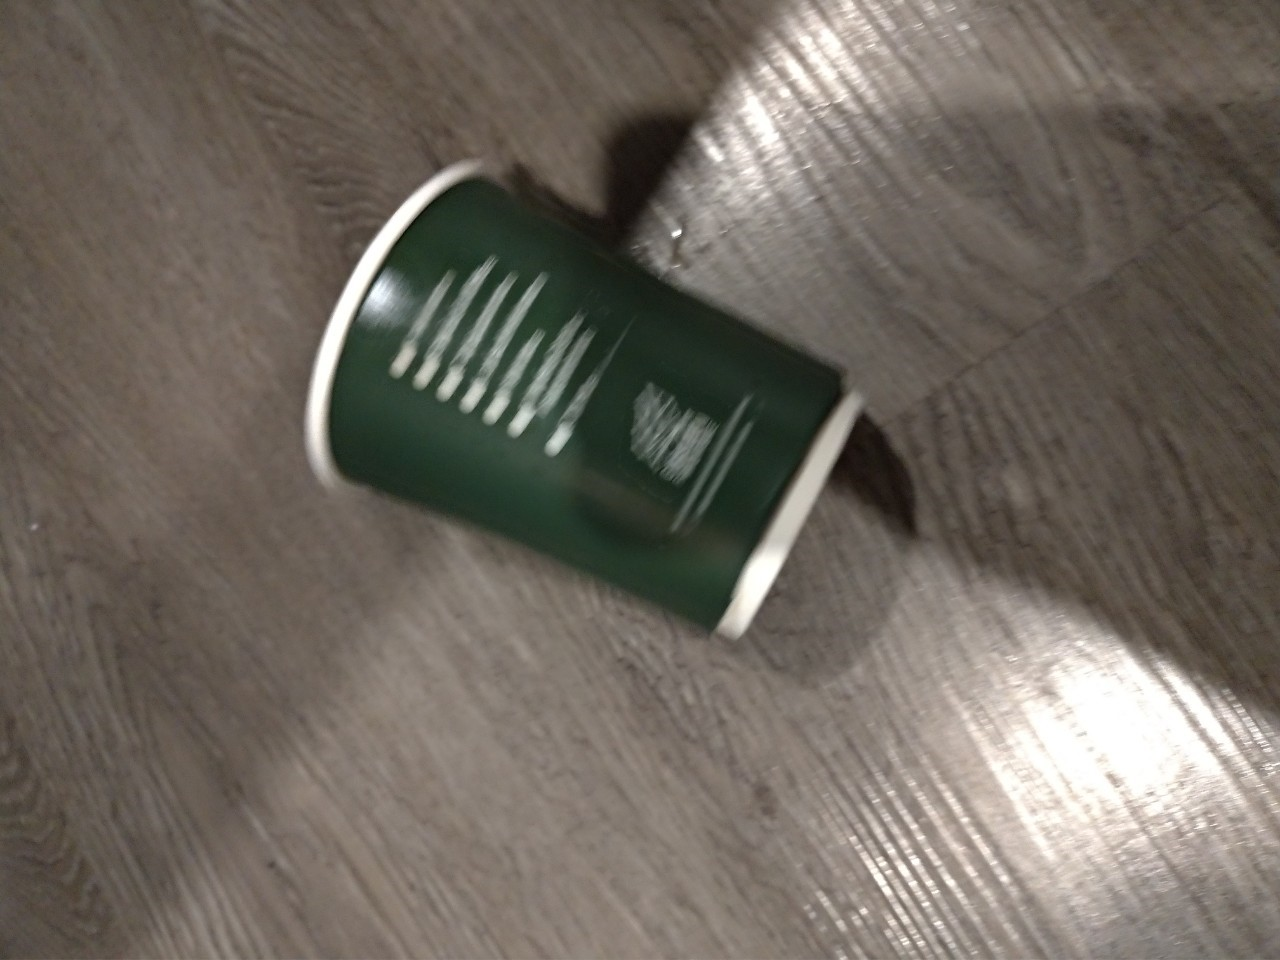PaperCup: (311, 167, 858, 631)
